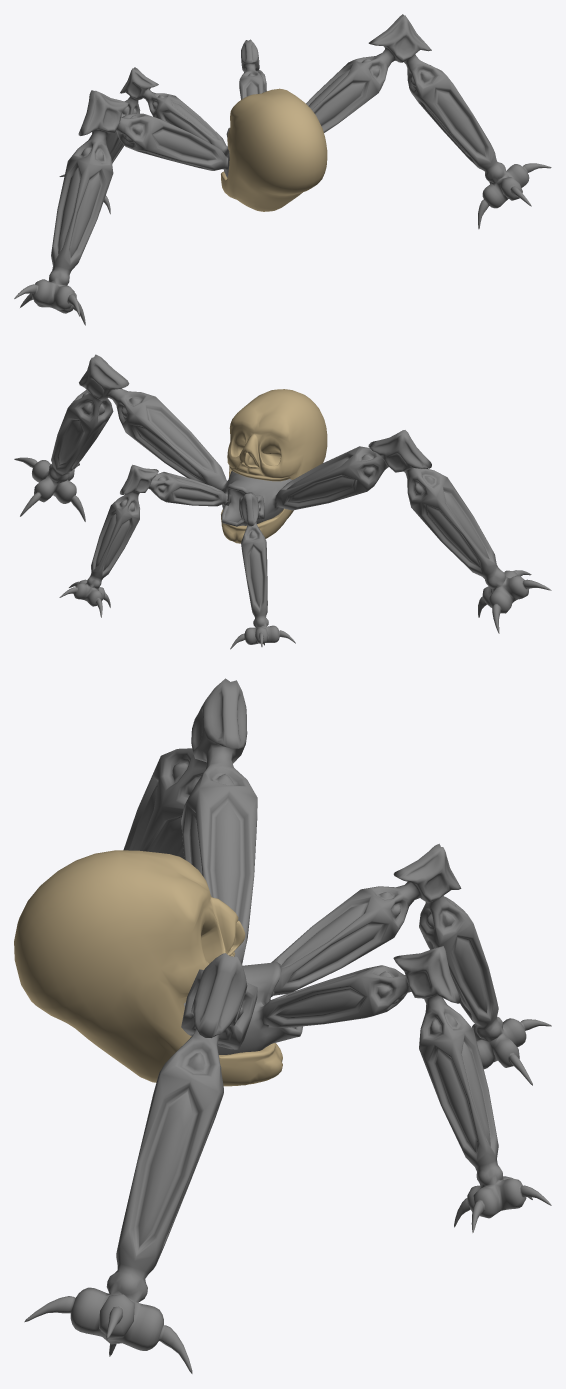
File: LeaperTemp.fbx
3 renders of one model, top to bottom at view 1: azimuth 30°, elevation 25°; view 2: azimuth 150°, elevation 25°; view 3: azimuth 270°, elevation 25°, orthographic. The views are drawn at different scales.
Parts seen in each view (by area): view 1: LeaperTemp; view 2: LeaperTemp; view 3: LeaperTemp.
Part boxes in pixels (box(x1,y1,x2,y2)): LeaperTemp: box(14, 14, 551, 325); LeaperTemp: box(14, 354, 551, 649); LeaperTemp: box(14, 678, 551, 1373).
Size of the model in its own units: 227 by 81.53 by 108.
